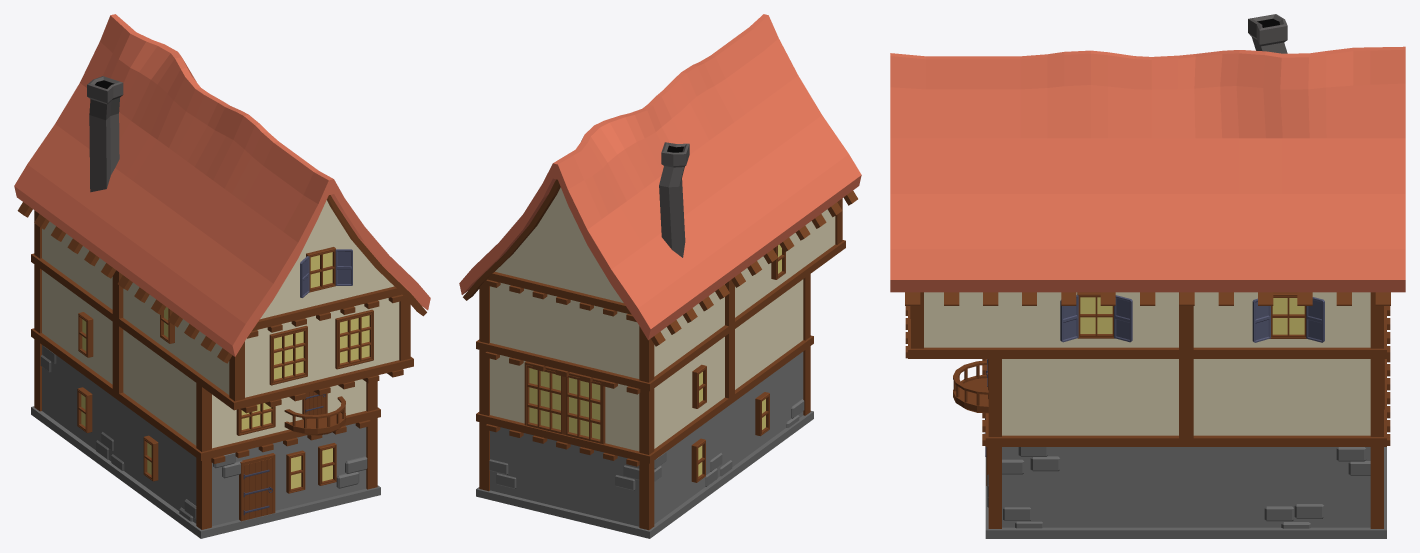
The model's file is House_City_02.fbx.
3 renders of one model, left to right at view 1: azimuth 30°, elevation 25°; view 2: azimuth 150°, elevation 25°; view 3: azimuth 270°, elevation 25°, orthographic. The views are drawn at different scales.
Visible parts, largest first — view 1: Roof_Long_Point.002, Floor_0.003, Floor_Long.002, Floor_Short.003, Door_Rectangle.003, Window_4x4.009, Window_6x6.008, Window_6x6.007, Balcony.002, Window_6x6.006, Window_2x1.004, Window_2x1.005 (+4 smaller); view 2: Roof_Long_Point.002, Floor_0.003, Floor_Long.002, Floor_Short.003, Window_6x6.016, Window_6x6.012, Window_2x1.016, Window_2x1.017, Window_2x1.019; view 3: Roof_Long_Point.002, Floor_0.003, Floor_Short.003, Floor_Long.002, Window_4x4.013, Window_4x4.014, Balcony.002.
Part boxes in pixels (<box>): Roof_Long_Point.002: <box>14,14,430,363</box>; Floor_0.003: <box>31,339,380,538</box>; Floor_Long.002: <box>31,210,413,413</box>; Floor_Short.003: <box>31,264,380,463</box>; Door_Rectangle.003: <box>239,453,275,521</box>; Window_4x4.009: <box>300,247,352,297</box>; Window_6x6.008: <box>335,309,373,369</box>; Window_6x6.007: <box>269,325,307,385</box>; Balcony.002: <box>284,396,345,435</box>; Window_6x6.006: <box>236,403,275,435</box>; Window_2x1.004: <box>286,450,305,493</box>; Window_2x1.005: <box>318,443,336,485</box>; Roof_Long_Point.002: <box>459,14,861,346</box>; Floor_0.003: <box>476,346,813,538</box>; Floor_Long.002: <box>476,198,845,394</box>; Floor_Short.003: <box>476,274,813,466</box>; Window_6x6.016: <box>564,372,605,444</box>; Window_6x6.012: <box>524,361,564,434</box>; Window_2x1.016: <box>755,392,769,436</box>; Window_2x1.017: <box>691,438,705,482</box>; Window_2x1.019: <box>692,364,706,408</box>; Roof_Long_Point.002: <box>890,14,1405,305</box>; Floor_0.003: <box>985,447,1386,538</box>; Floor_Short.003: <box>982,358,1390,446</box>; Floor_Long.002: <box>905,292,1390,358</box>; Window_4x4.013: <box>1060,292,1132,342</box>; Window_4x4.014: <box>1252,292,1324,342</box>; Balcony.002: <box>953,360,988,413</box>.
Bounding box in the file's own units: 713 × 1245 × 1323.
